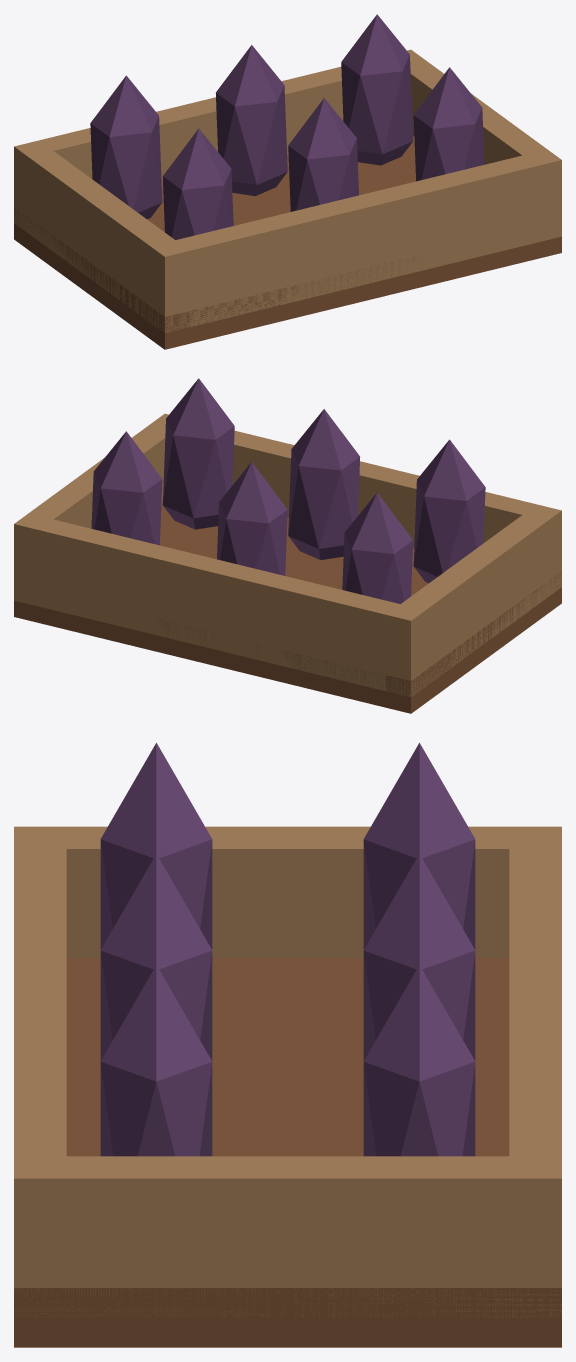
The model's file is set_aubergine_basket.glb.
The picture shows the model from 3 angles, top to bottom: view 1: azimuth 30°, elevation 25°; view 2: azimuth 150°, elevation 25°; view 3: azimuth 270°, elevation 25°; orthographic projection. The views are drawn at different scales.
Visible parts, largest first — view 1: set_aubergine_basket; view 2: set_aubergine_basket; view 3: set_aubergine_basket.
Part boxes in pixels (x1,y1,x2,y2): set_aubergine_basket: (14, 14, 561, 349); set_aubergine_basket: (14, 378, 561, 713); set_aubergine_basket: (14, 743, 561, 1347).
Size of the model in its own units: 0.38 by 0.16 by 0.25.
